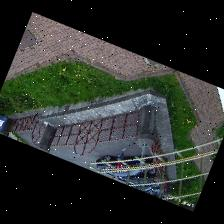person: (118, 148, 125, 159)
